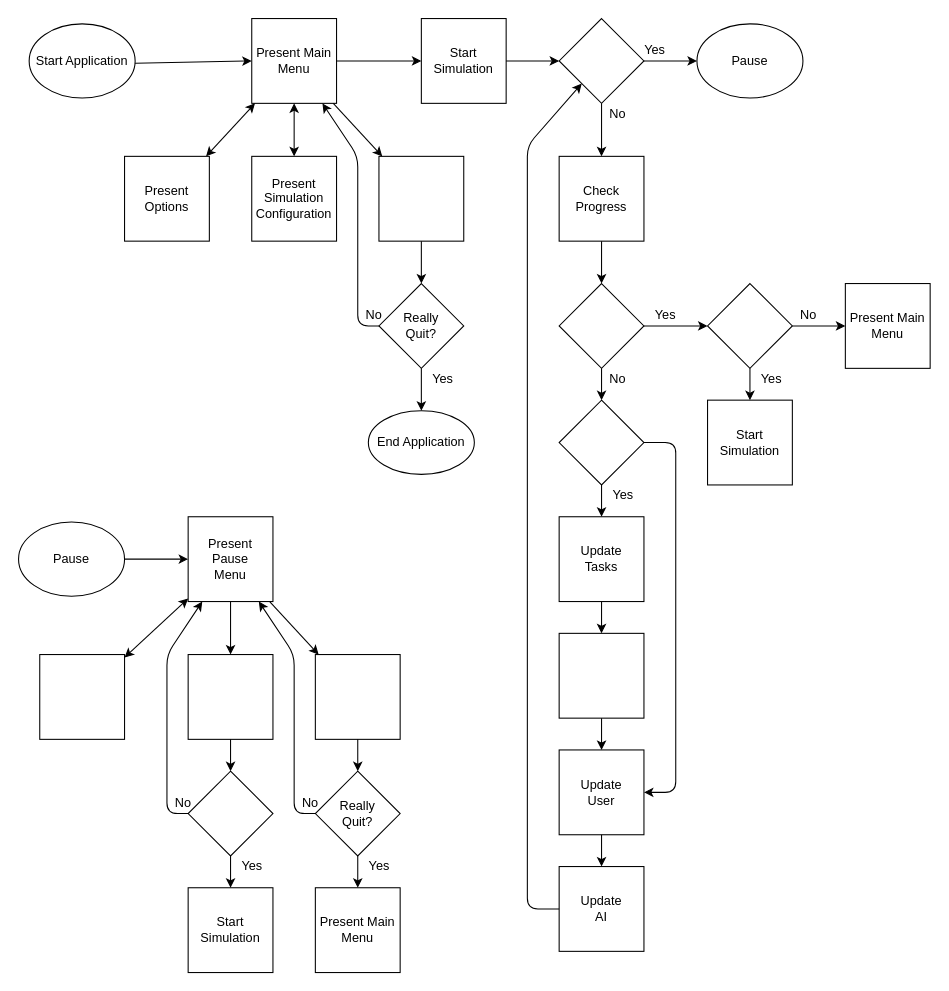
Image size: 949x991. Some labels were removed from this diagram. The centre of each missing label's shape, as x and y in pixels:
"All Tasks Done?" belongs at point (601, 325).
"Current Task Done?" belongs at point (601, 442).
"Display Tasks" belongs at point (601, 675).
"Present Ingame Options" belongs at point (82, 696).
"Quit Application" belongs at point (421, 198).
"Quit Simulation" belongs at point (357, 696).
"Really Restart?" belongs at point (230, 813).
"Restart Simulation" belongs at point (230, 696).
"Restart Simulation?" belongs at point (749, 325).
"Simulation Paused?" belongs at point (601, 60).
